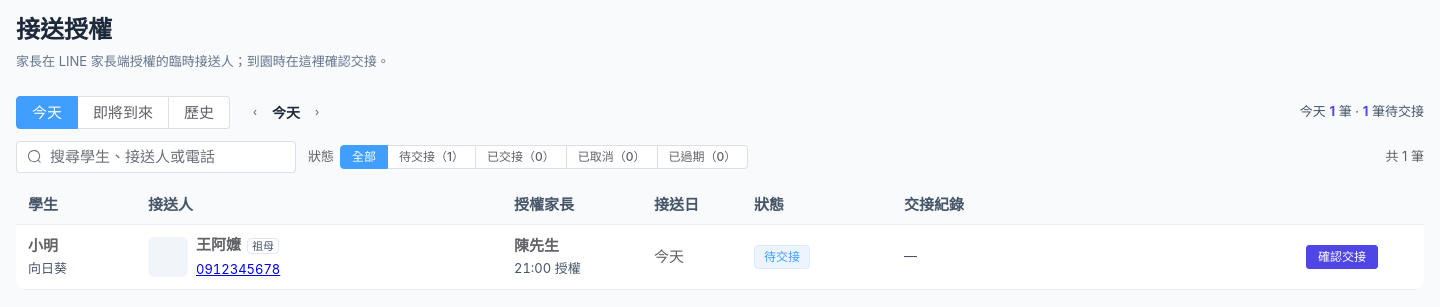
PickupAuthorizationsView (admin) › 第二批：三端語彙、日期箭頭、人工核對說明 chip、歷史區間上限 › 即將到來範圍標示查詢的日期區間（明天～兩週後），不再寫「今天」
Click the text "即將到來" at (124,112), box [78,96,169,128]
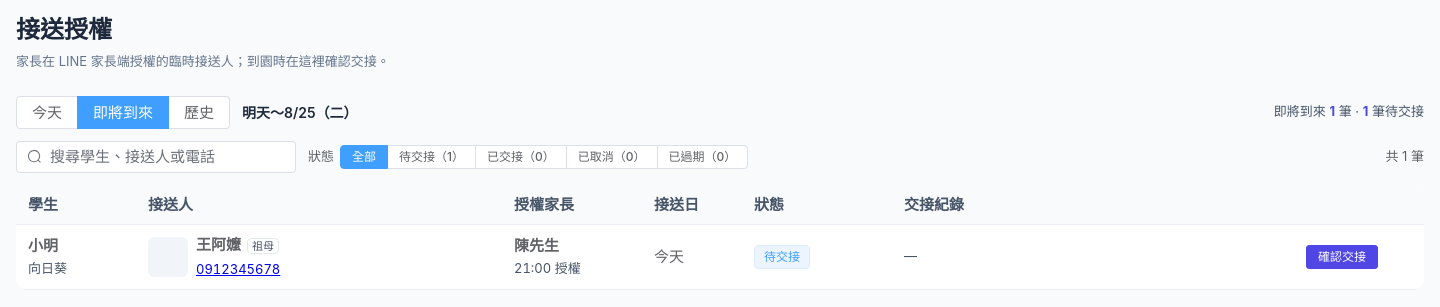
Now the text with test id "upcoming-range" reads "明天～8/25（二）", box [242,104,358,120]
